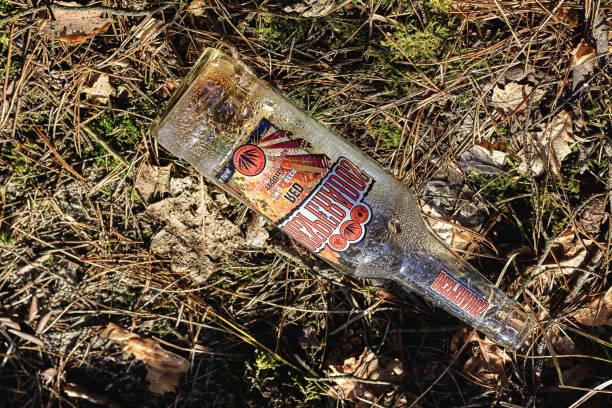Glass: (146, 48, 538, 353)
